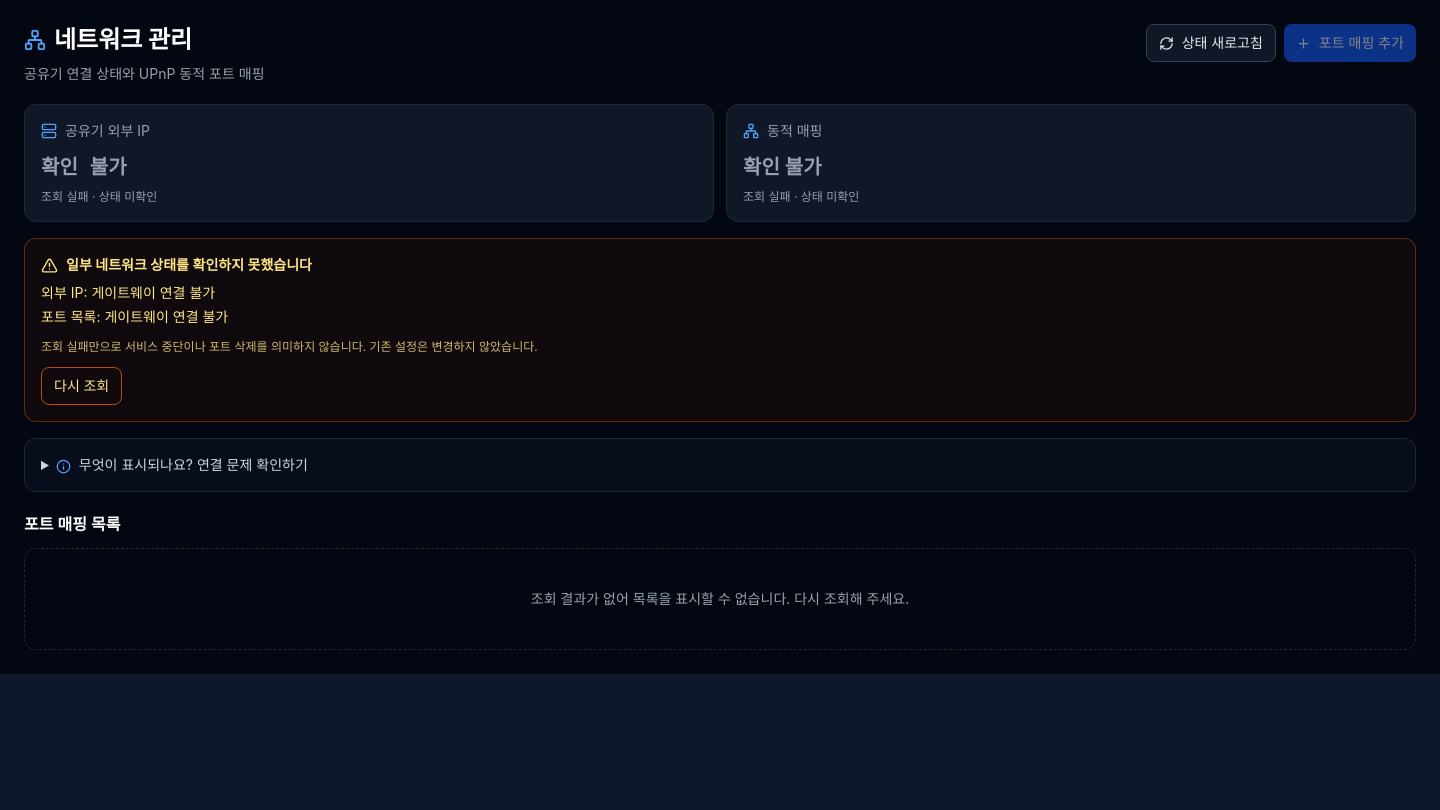
네트워크 상태와 복구 UX › 조회 실패는 0개 대신 확인 불가로 안내하고 다시 조회하면 두 상태 모두 회복함
This screenshot has width=1440, height=810.
Expected: the message that starts with "일부 네트워크 상태를 확인하지 못했습니다" shows "기존 설정은 변경하지 않았습니다", [41, 339, 538, 354]
Expected: the text "확인 불가" is shown 2 times, [41, 153, 127, 181]; [743, 155, 822, 179]
Click the button "다시 조회" at (82, 386), box [41, 367, 122, 405]
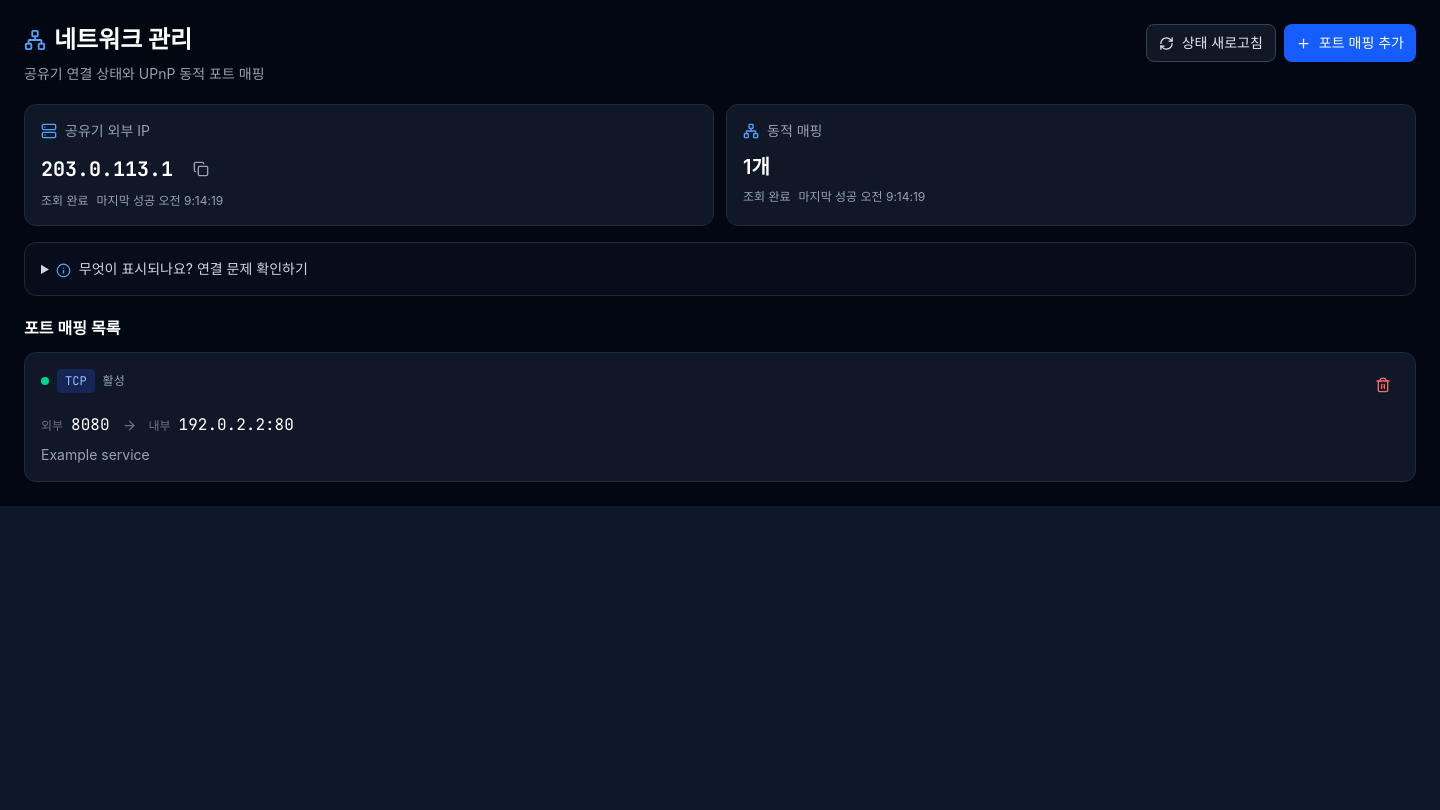
Now the text "203.0.113.1" is shown, box [41, 155, 173, 183]
Now the text "1개" is shown, box [743, 155, 770, 179]
